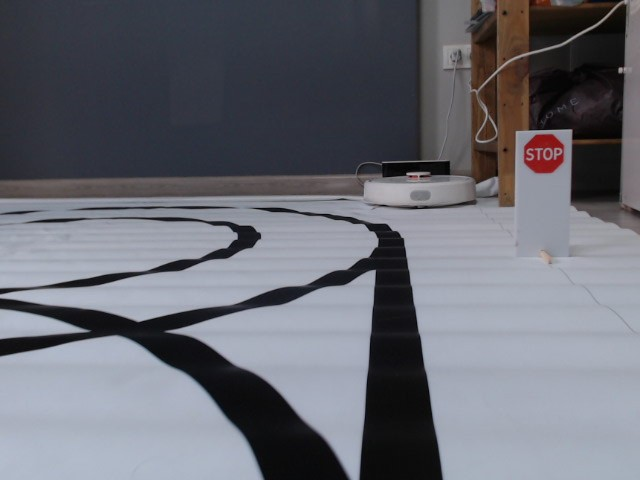Stop: (522, 132, 564, 174)
